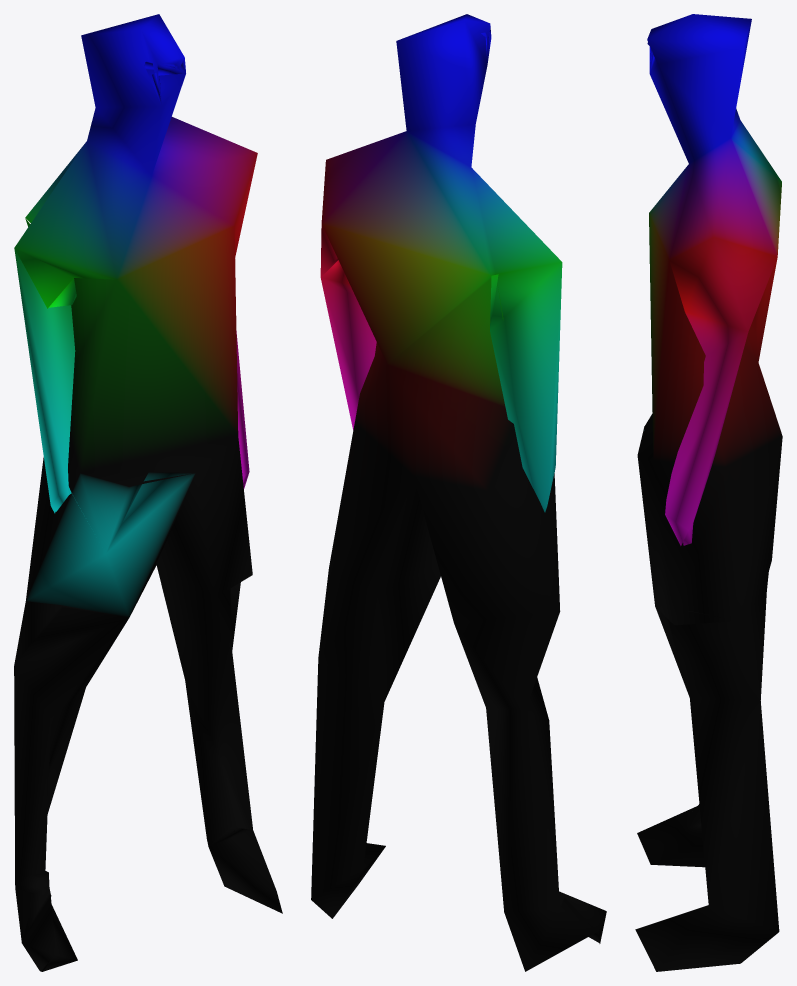
Rendered from nova-fan.glb.
3 views of the same model, side by side, from view 1: azimuth 30°, elevation 25°; view 2: azimuth 150°, elevation 25°; view 3: azimuth 270°, elevation 25° (orthographic).
Visible parts, largest first — view 1: char1; view 2: char1; view 3: char1.
Part boxes in pixels (x1=…): char1: x1=14, y1=14, x2=282, y2=971; char1: x1=311, y1=14, x2=606, y2=971; char1: x1=635, y1=14, x2=782, y2=971.
Bounding box in the file's own units: 0.5334 × 1.82 × 0.2702.
